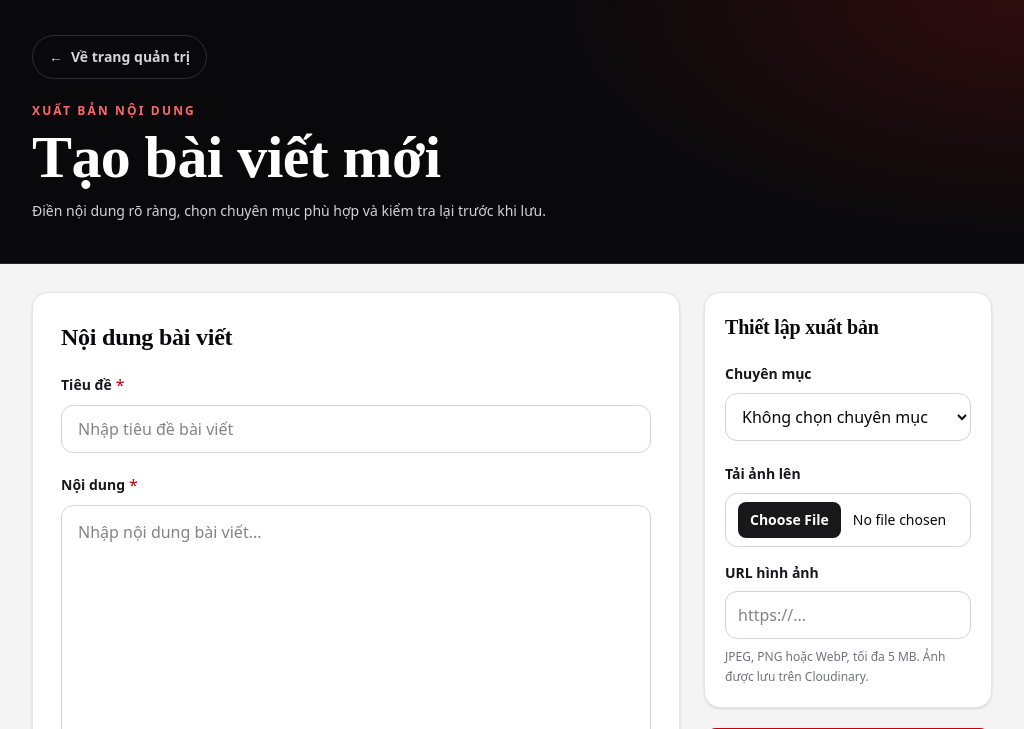
CreateEditPostPage › hiện lỗi từng trường từ ValidationProblemDetails và giữ form
This screenshot has width=1024, height=729.
Type "Tiêu đề bị từ chối" into the field labelled "Tiêu đề" at (356, 429), box [61,405,651,453]
(page scrolled)
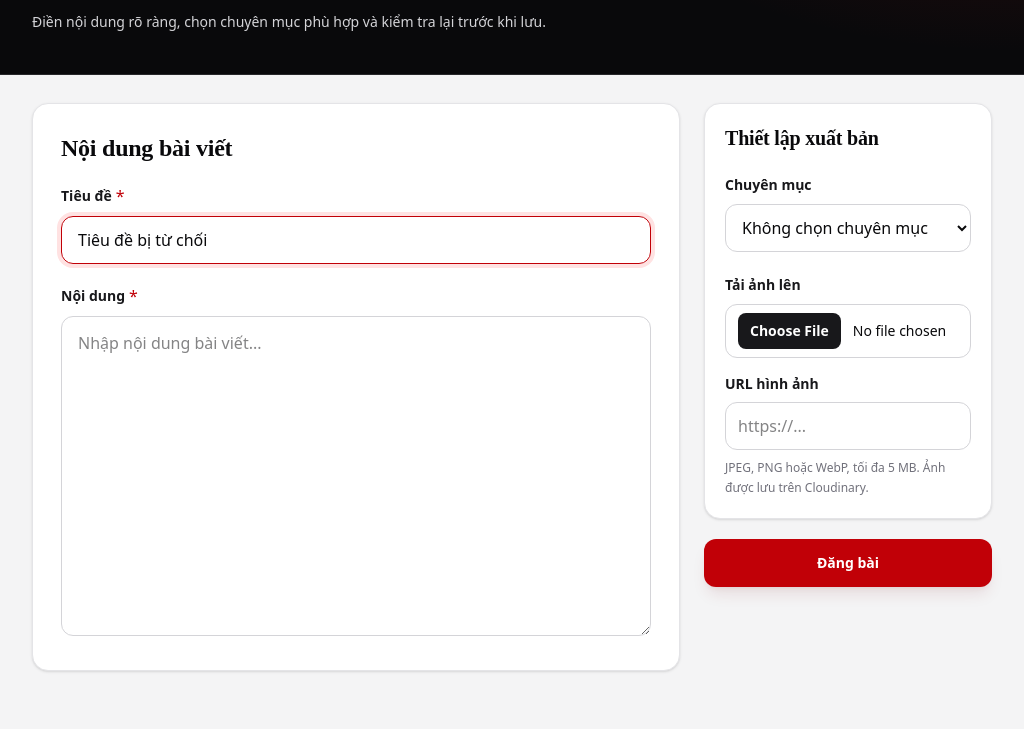
Type "Nội dung còn được giữ" into the text box labelled "Nội dung" at (356, 476), box [61,316,651,636]
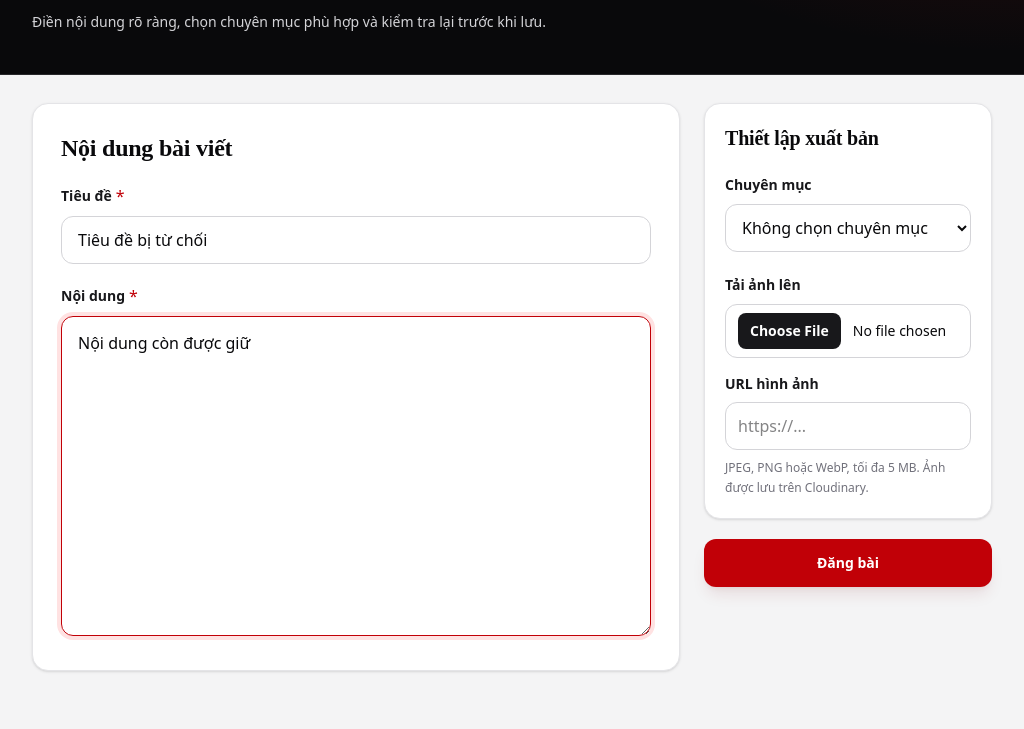
Click the button "Đăng bài" at (848, 563), box [704,539,992,587]
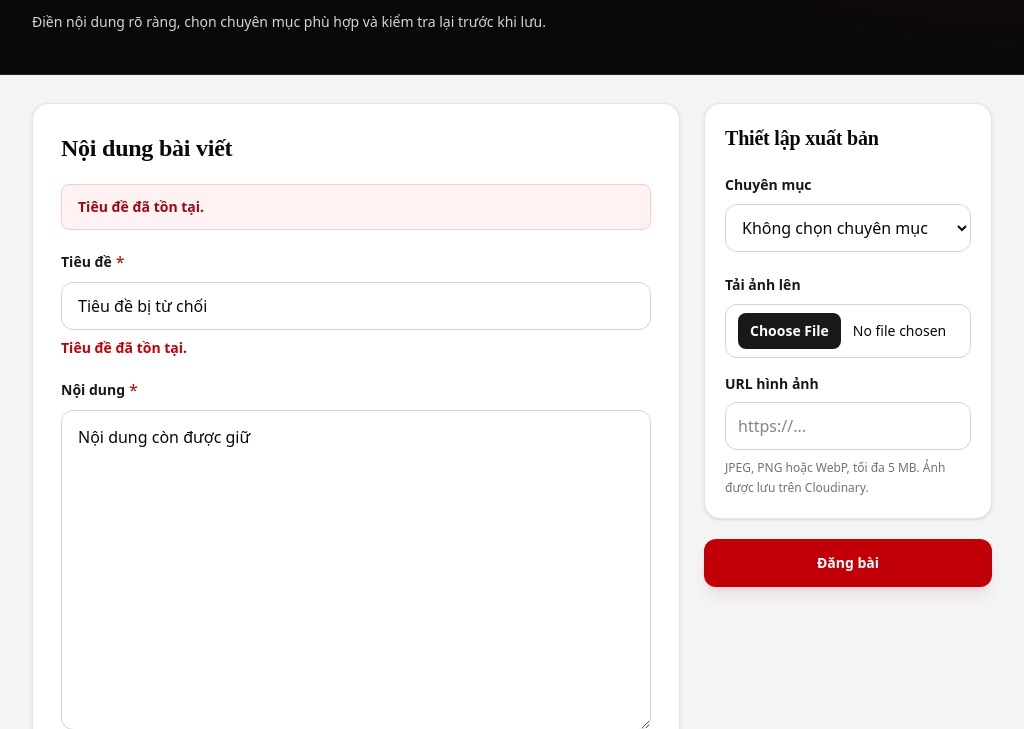
Check: the text "Tiêu đề đã tồn tại." is shown, box [61,338,187,357]
